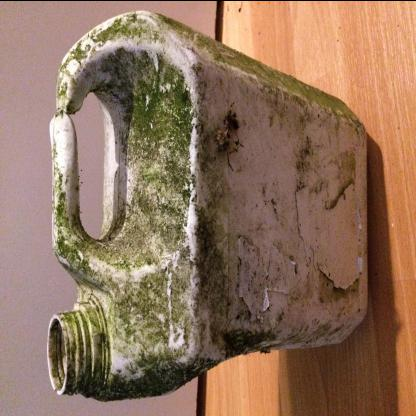plastik: (14, 44, 408, 374)
